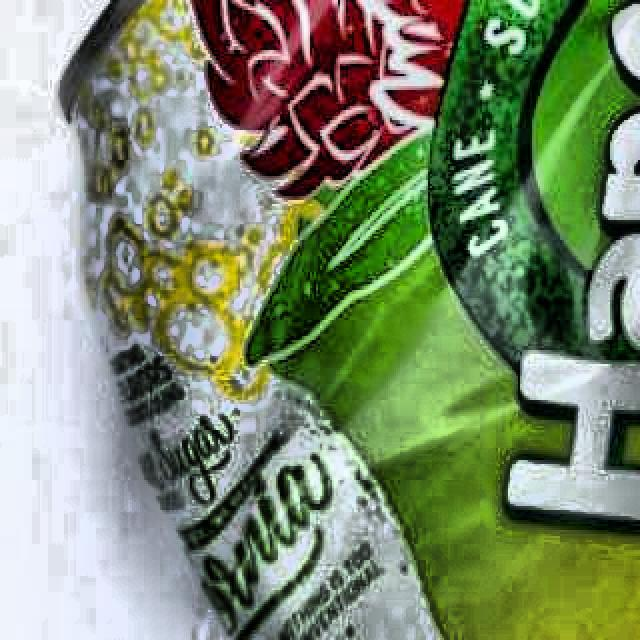metal: (56, 0, 640, 640)
